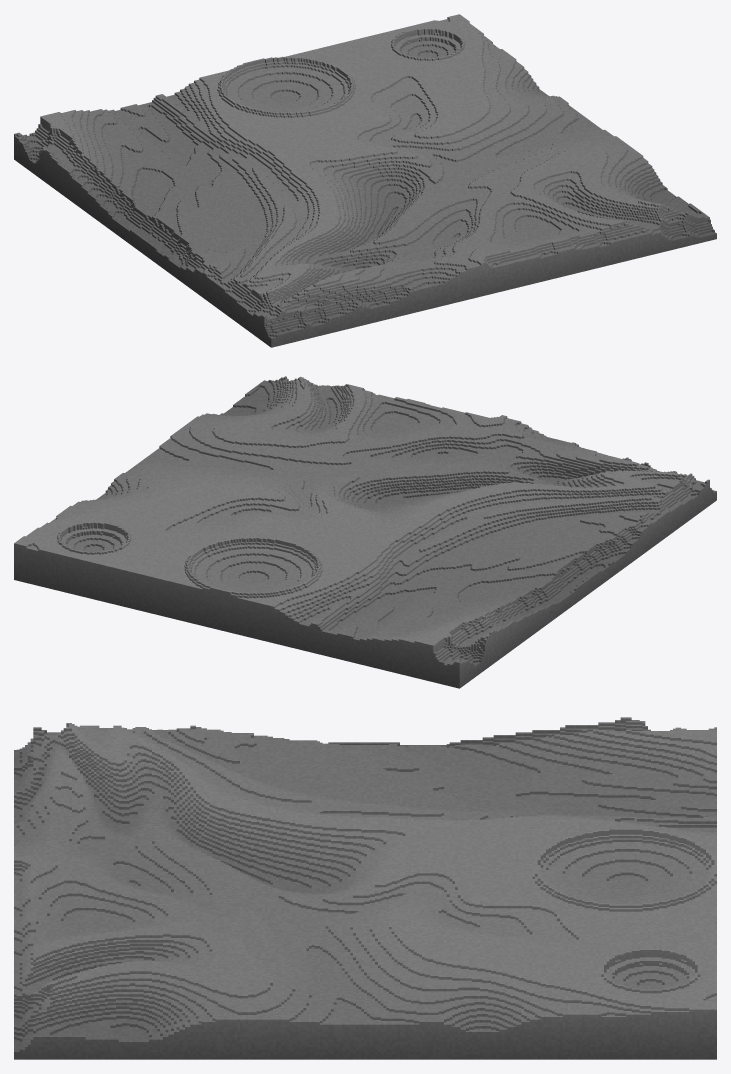
The model's file is LunaGrande-15.obj.
3 renders of one model, top to bottom at view 1: azimuth 30°, elevation 25°; view 2: azimuth 150°, elevation 25°; view 3: azimuth 270°, elevation 25°, orthographic. The views are drawn at different scales.
Bounding box in the file's own units: 25.5 × 2.2 × 25.5.
1 material, 1 textured.
